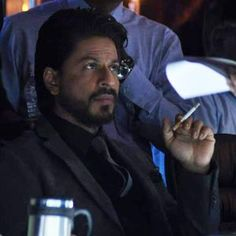cigarette: (171, 99, 202, 132)
